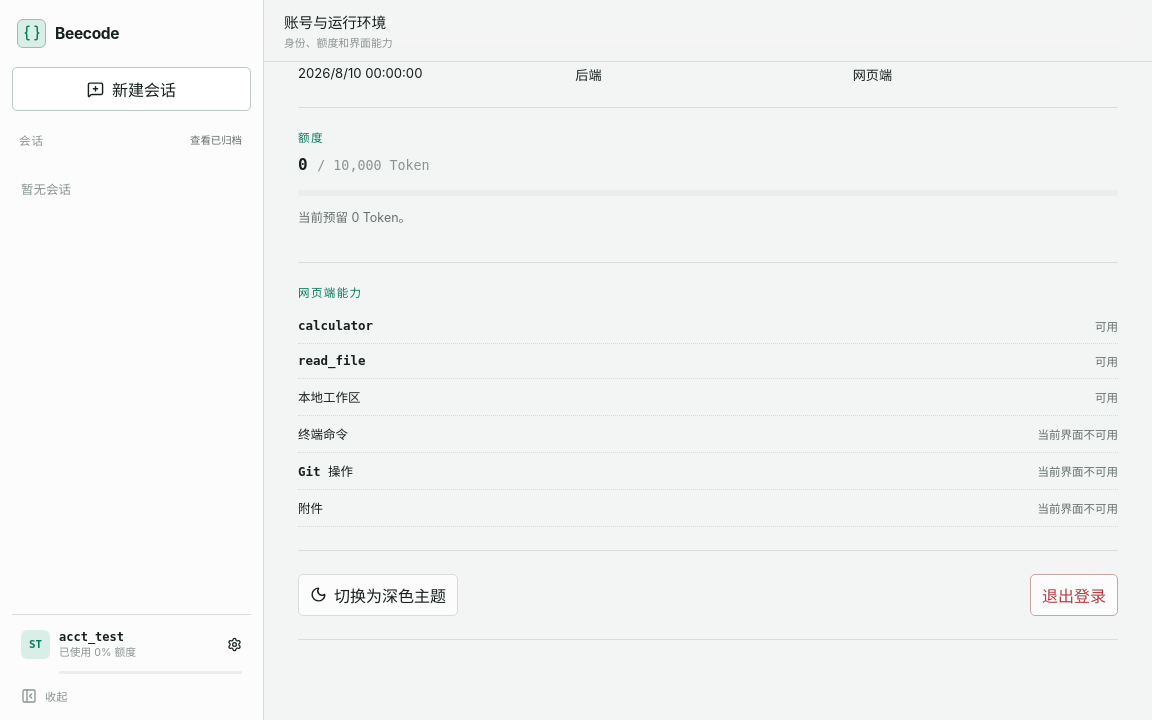
Workspace › renders a handled product error when logout is rejected
(page scrolled)
Step 1. Click the button "退出登录" → (1074, 595), box x1=1030 y1=574 x2=1118 y2=616
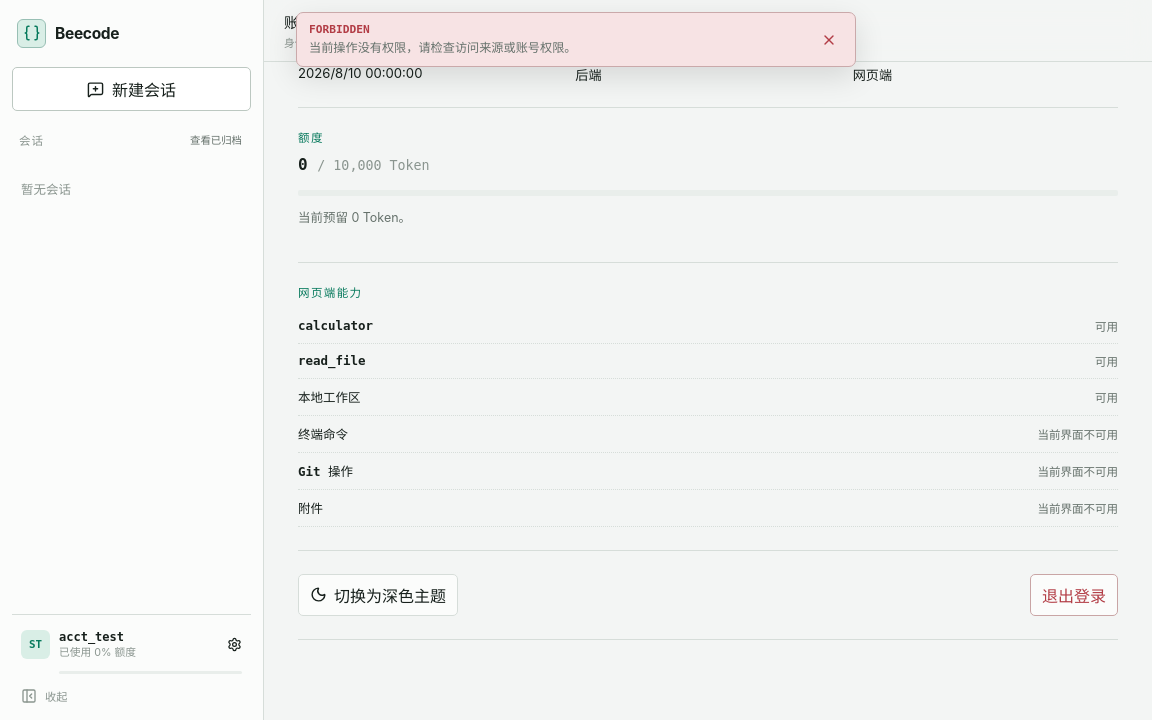
Check: the message shows "FORBIDDEN", box x1=309 y1=23 x2=370 y2=36
Check: the message shows "当前操作没有权限", box x1=309 y1=40 x2=576 y2=55
